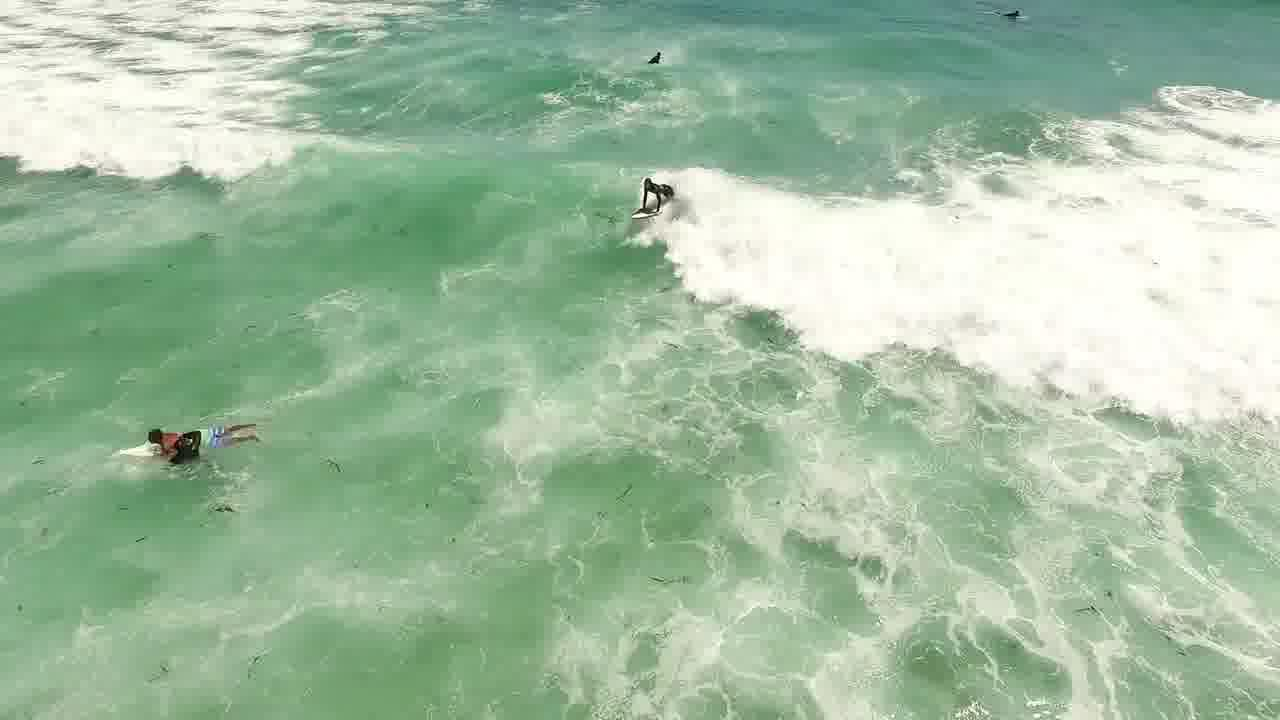human: (139, 411, 202, 455), (638, 41, 685, 78), (623, 166, 679, 197)
